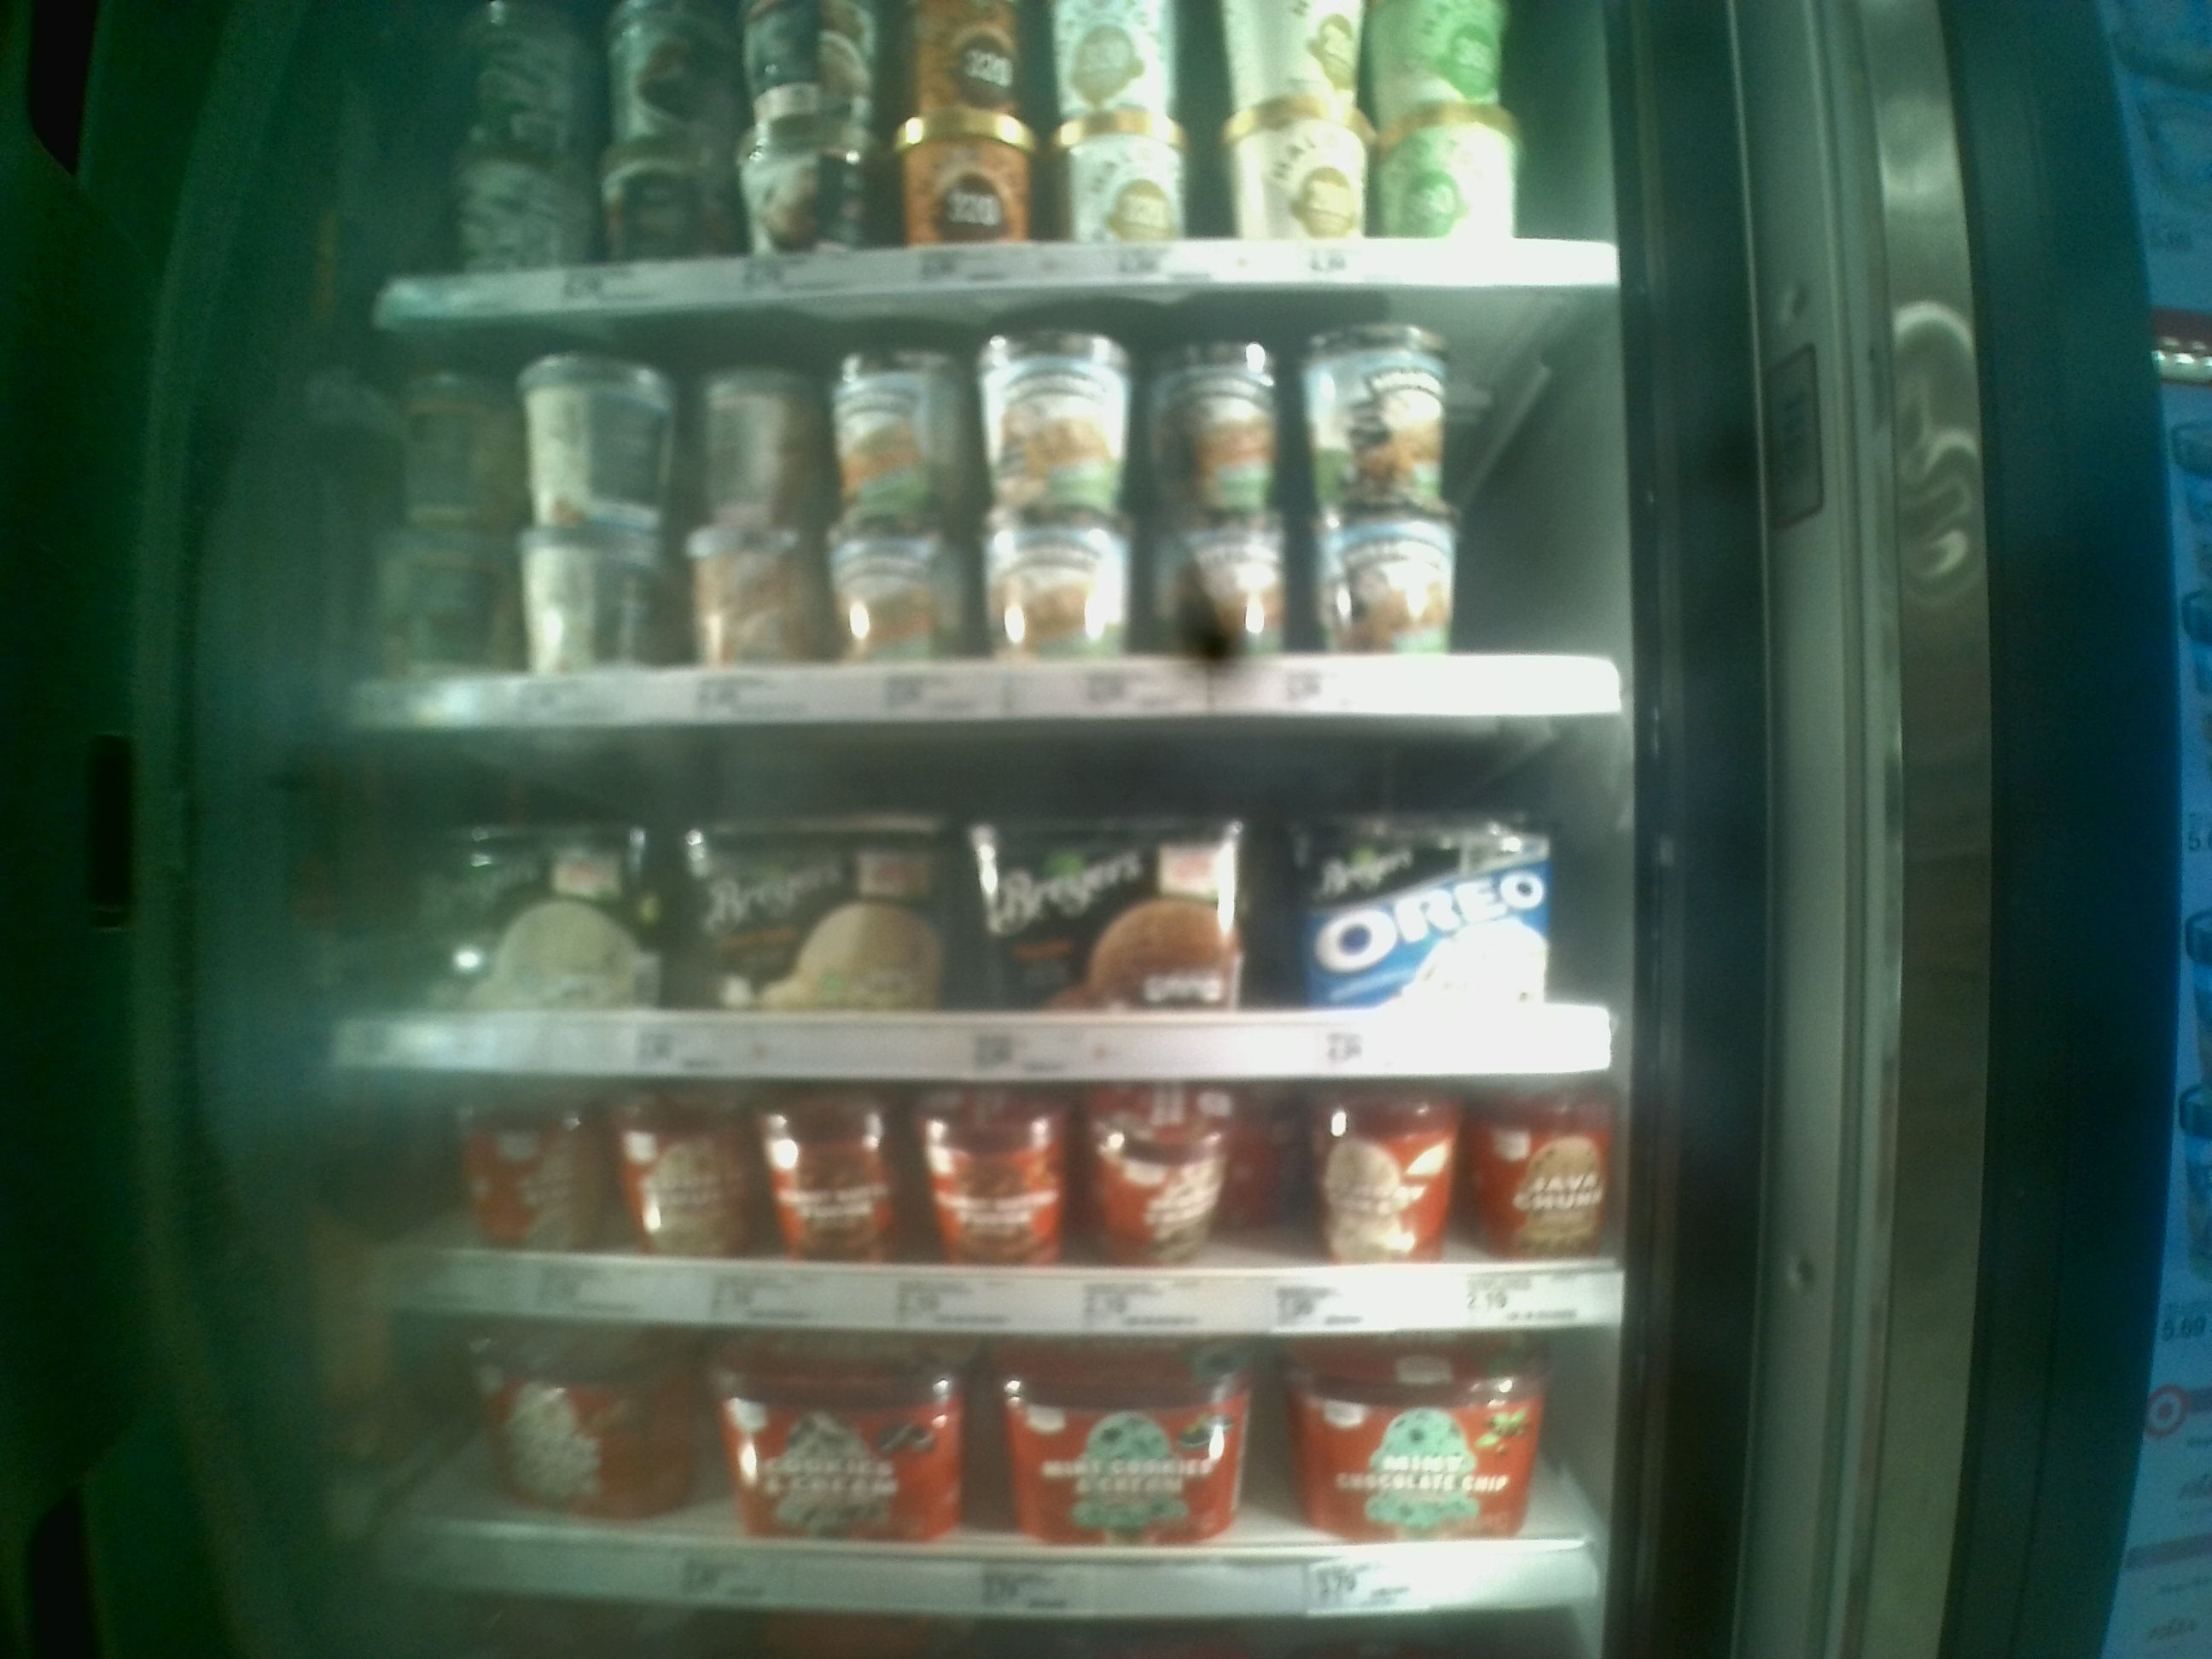shelf: (336, 342, 1622, 725), (322, 721, 1622, 1079), (361, 1338, 1601, 1624), (331, 1075, 1630, 1335)
